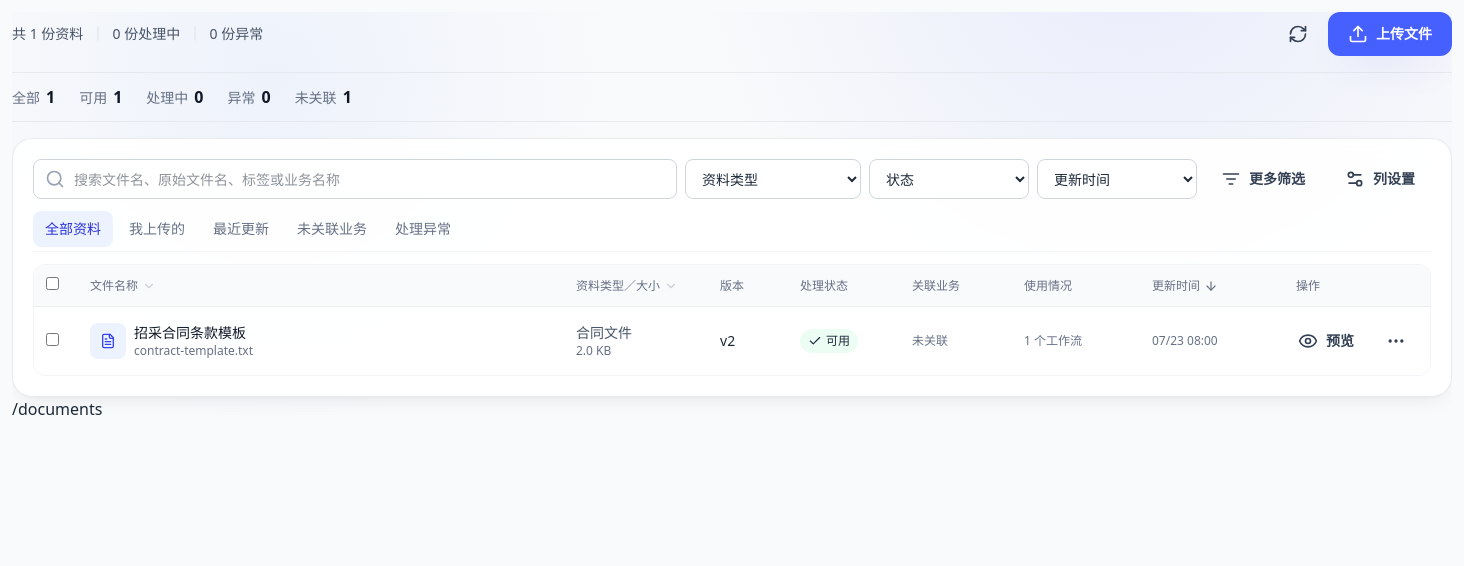
business document library › searches original names and workflow names and exposes shortcut views
Type "文件完整性校验" into the field labelled "搜索文件" at (355, 179), box [33,159,677,199]
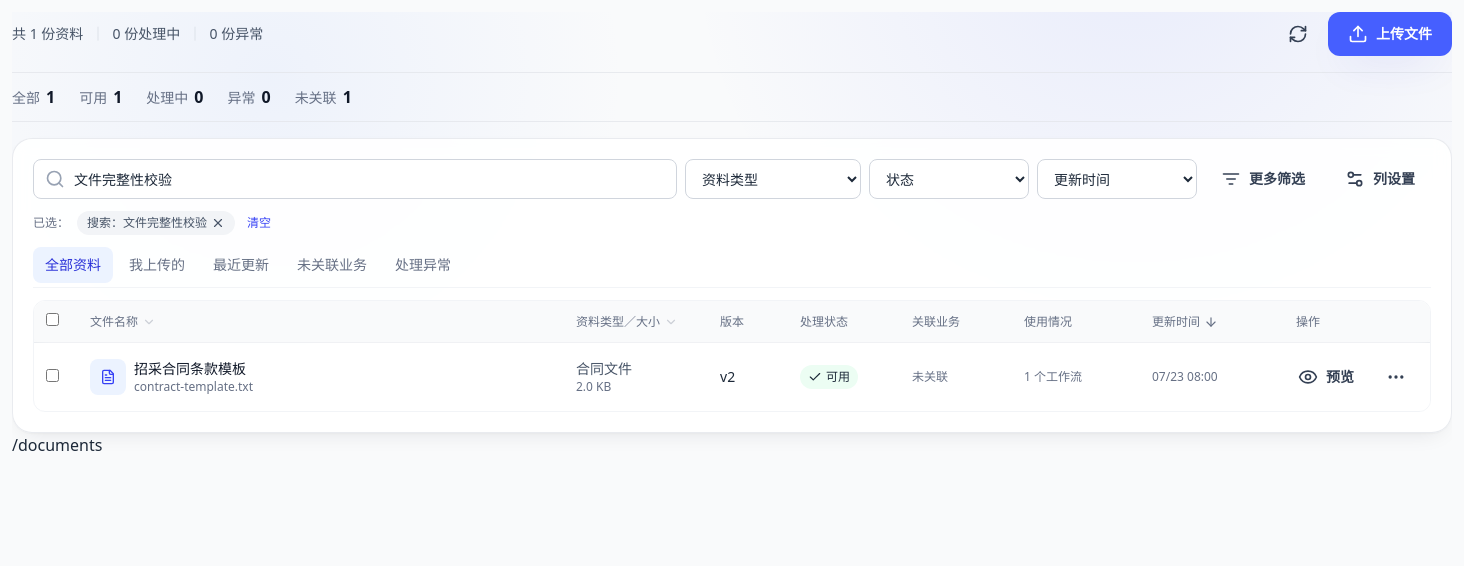
Expected: the text "招采合同条款模板" is shown, [134,359,253,379]
Click the button "未关联业务" at (332, 265), box [285,247,379,283]
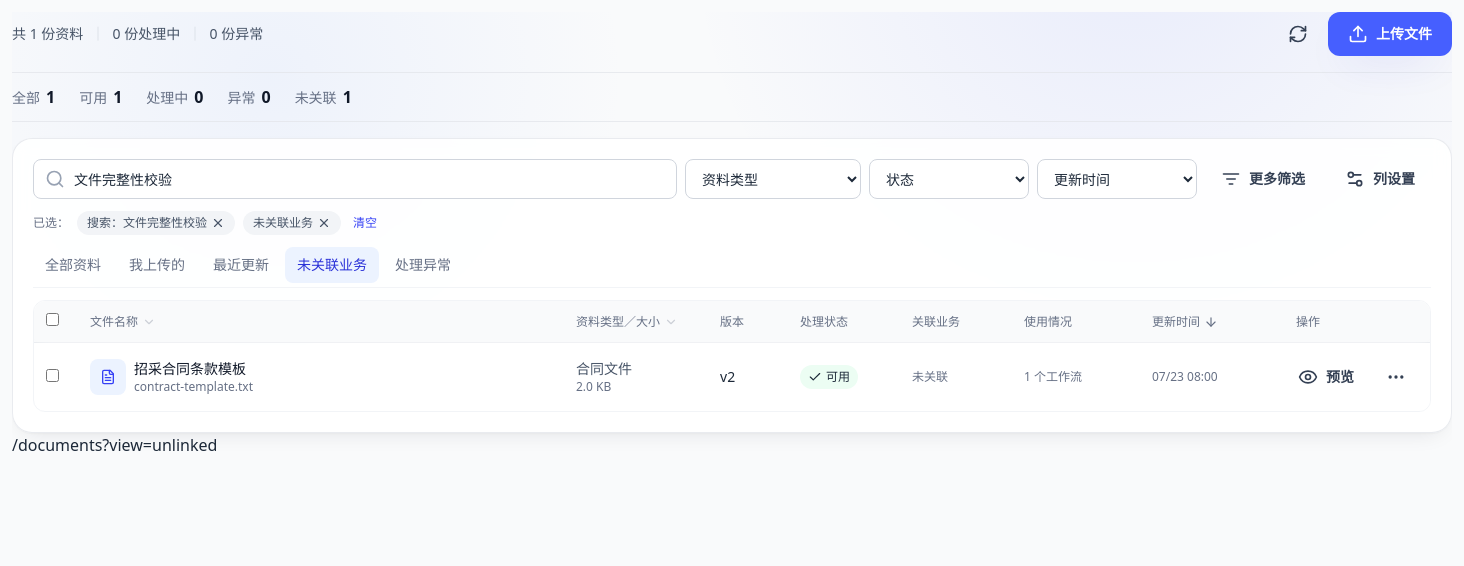
Click the button "更多筛选" at (1263, 179), box [1205,159,1321,199]
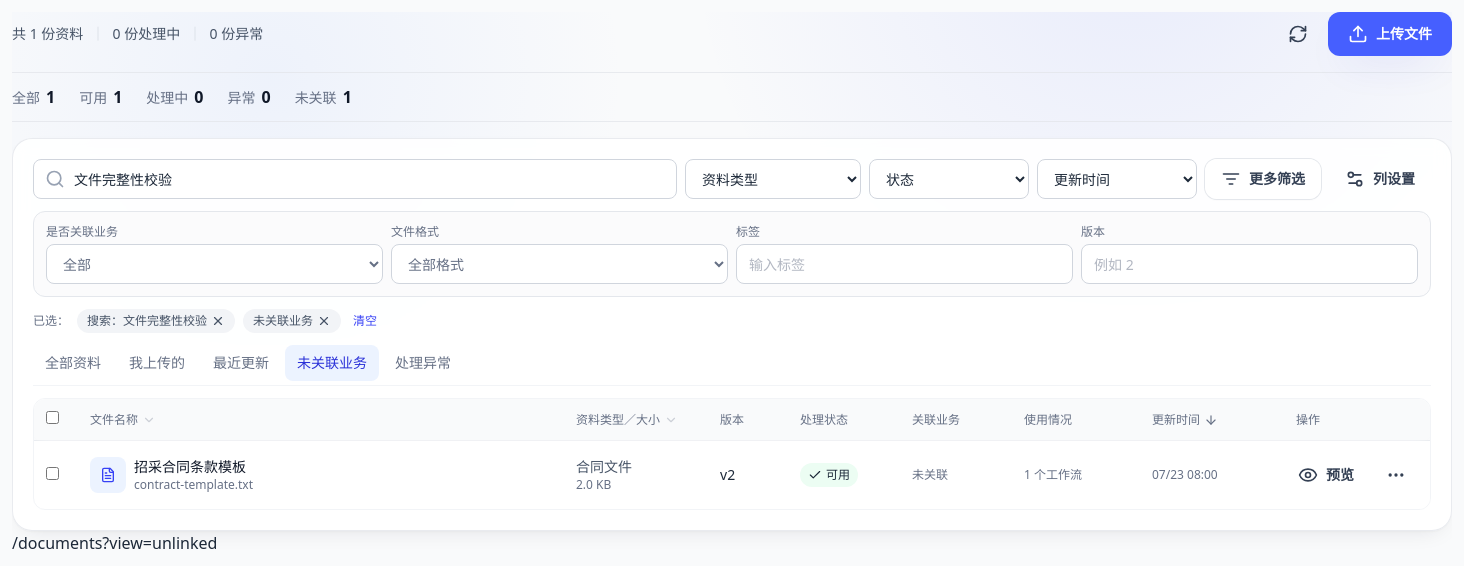
Expected: the dropdown labelled "是否关联业务" is shown, [46,244,383,284]
Expected: the field named "按标签筛选" is shown, [736,244,1073,284]
